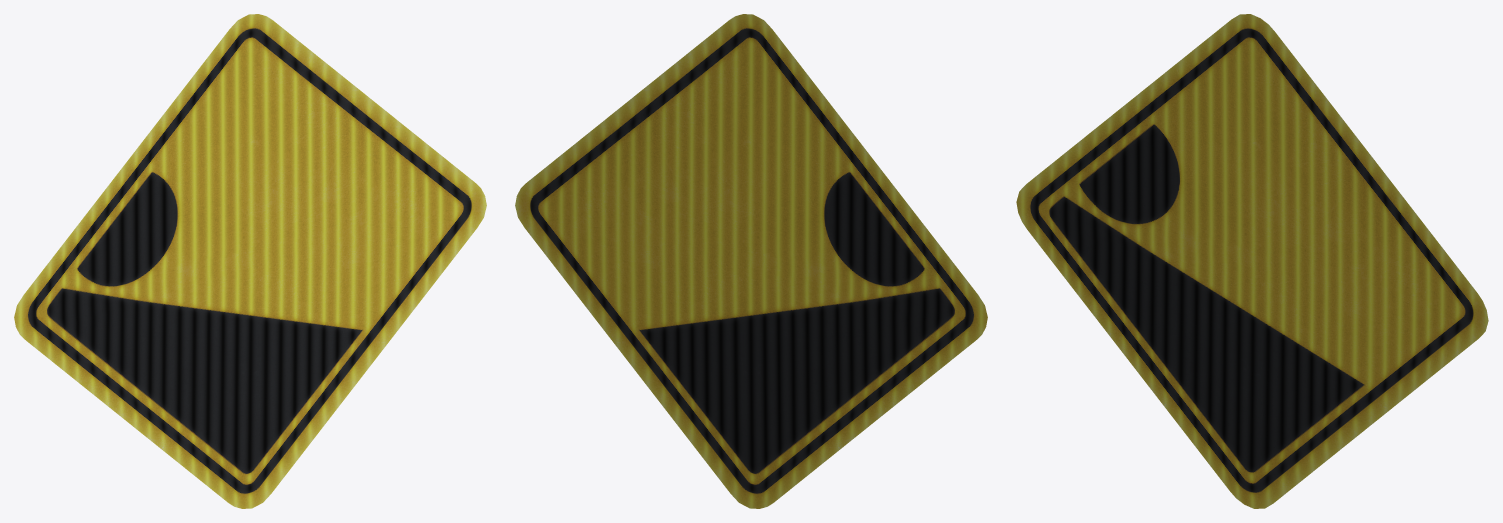
The model's file is RoadSign04Steep.fbx.
The picture shows the model from 3 angles, left to right: view 1: azimuth 30°, elevation 25°; view 2: azimuth 150°, elevation 25°; view 3: azimuth 330°, elevation 25°; orthographic projection.
Parts seen in each view (by area): view 1: Polygonal_Geometry; view 2: Polygonal_Geometry; view 3: Polygonal_Geometry.
Boxes of the visible parts, x1,y1,x2,y2 form: Polygonal_Geometry: (14, 14, 486, 508); Polygonal_Geometry: (515, 14, 987, 508); Polygonal_Geometry: (1016, 14, 1488, 508).
Size of the model in its own units: 4.5 by 4.5 by 0.
